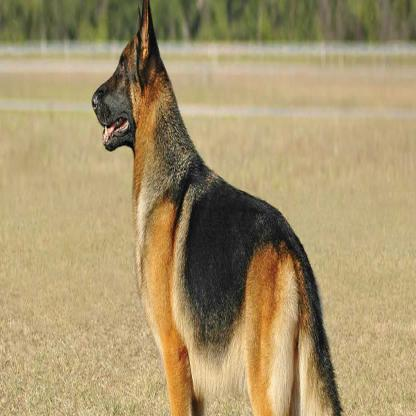german shepherd: (93, 9, 343, 416)
